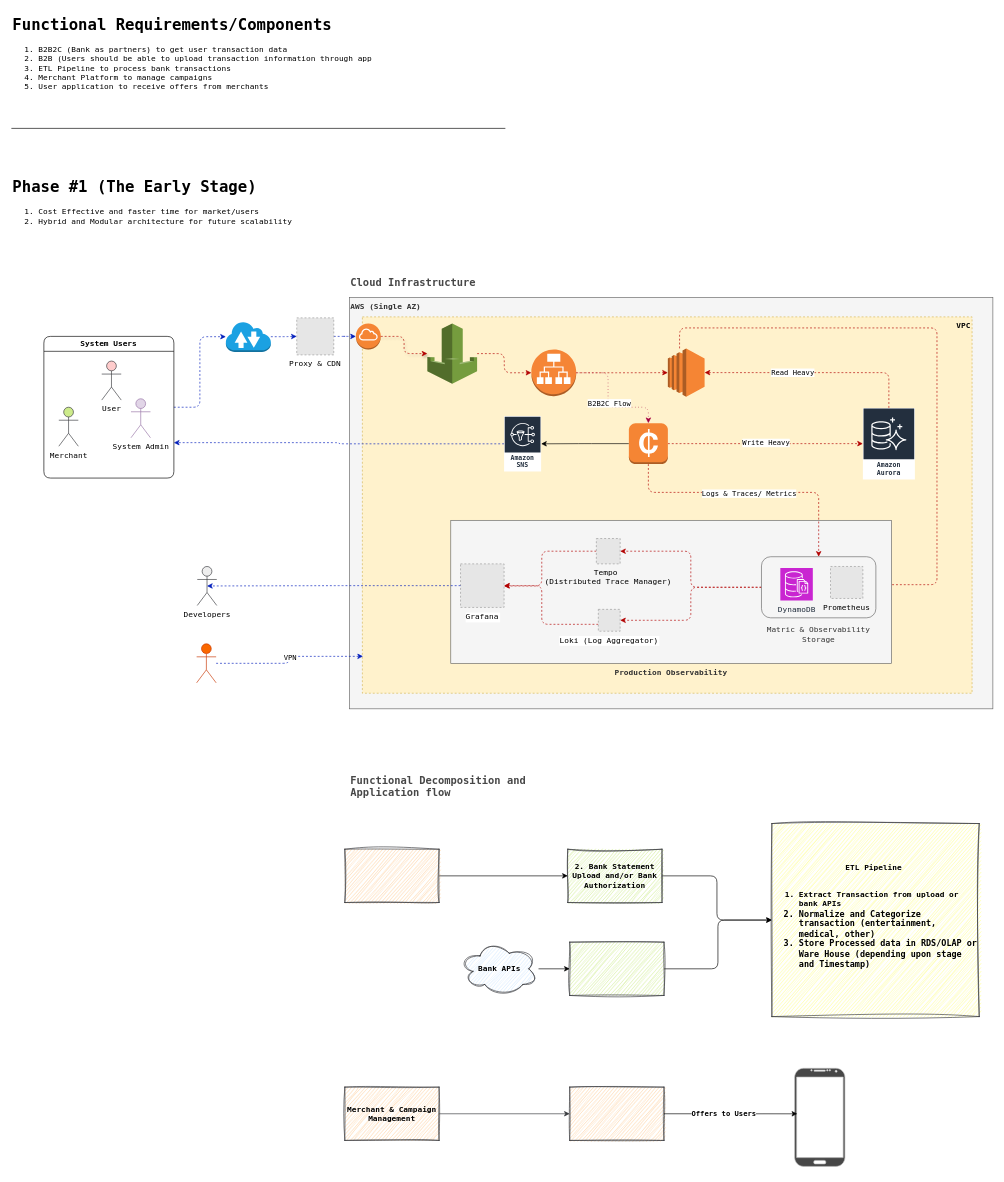
Some shapes in this 1004 by 1182 pixel diagram are drawn without their labels. Grey dashed boxes stand in for pictures. The shapes that lost their labels are listed below. From the top down, each one's centre as x and y in pixels, then its label:
At (x=248, y=336): "Internet".
At (x=368, y=336): "Net Gateway".
At (x=452, y=353): "WAF".
At (x=553, y=372): "ALB".
At (x=686, y=372): "EC2 Node #1".
At (x=648, y=443): "Spot Instance #1".
At (x=206, y=663): "Infra. Admin".
At (x=391, y=876): "1. Users & Profile Management".
At (x=616, y=968): "2. Fetch Bank Transactions via Bank APIs".
At (x=616, y=1113): "Targeting Rules & Coupon Distribution".
